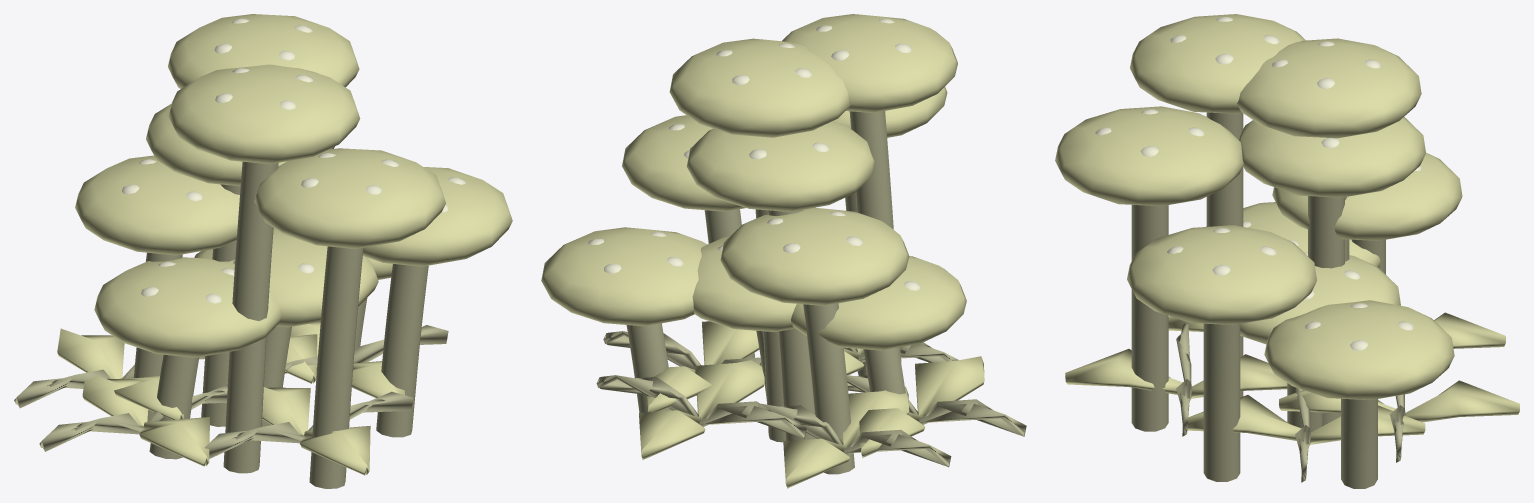
The model's file is bio_spore_fungus_20_far.glb.
3 renders of one model, left to right at view 1: azimuth 30°, elevation 25°; view 2: azimuth 150°, elevation 25°; view 3: azimuth 270°, elevation 25°, orthographic.
Parts seen in each view (by area): view 1: Thick umbrella cap.007, Thick umbrella cap.002, Thick umbrella cap.004, Thick umbrella cap.001, Curved stipe.007, Thick umbrella cap.003, Curved stipe.002, Thick umbrella cap.005, Curved stipe.005, Thick umbrella cap, Low buttress leaf.017, Low buttress leaf.009 (+12 smaller); view 2: Thick umbrella cap.001, Thick umbrella cap.003, Thick umbrella cap.008, Thick umbrella cap.006, Thick umbrella cap.007, Thick umbrella cap.004, Thick umbrella cap.005, Low buttress leaf.013, Thick umbrella cap, Low buttress leaf.017, Curved stipe.001, Low buttress leaf.005 (+13 smaller); view 3: Thick umbrella cap.005, Thick umbrella cap.002, Thick umbrella cap.008, Thick umbrella cap.003, Thick umbrella cap.007, Thick umbrella cap.006, Thick umbrella cap.001, Curved stipe.002, Curved stipe.005, Thick umbrella cap, Low buttress leaf.013, Low buttress leaf.009 (+10 smaller).
Boxes of the visible parts, x1,y1,x2,y2 form: Thick umbrella cap.007: (168,64,360,164); Thick umbrella cap.002: (254,148,445,248); Thick umbrella cap.004: (94,257,281,357); Thick umbrella cap.001: (75,155,239,255); Curved stipe.007: (223,161,278,473); Thick umbrella cap.003: (168,14,359,88); Curved stipe.002: (309,246,363,488); Thick umbrella cap.005: (362,167,512,266); Curved stipe.005: (376,264,428,437); Thick umbrella cap: (194,228,378,327); Low buttress leaf.017: (82,372,209,466); Low buttress leaf.009: (262,387,370,475); Thick umbrella cap.001: (720,207,909,305); Thick umbrella cap.003: (669,38,850,137); Thick umbrella cap.008: (541,227,706,326); Thick umbrella cap.006: (686,121,875,211); Thick umbrella cap.007: (782,14,957,112); Thick umbrella cap.004: (791,256,966,350); Thick umbrella cap.005: (622,115,745,211); Low buttress leaf.013: (639,360,764,460); Thick umbrella cap: (692,236,796,332); Low buttress leaf.017: (859,356,984,458); Curved stipe.001: (803,303,854,474); Low buttress leaf.005: (783,386,909,488); Thick umbrella cap.005: (1127,225,1316,324); Thick umbrella cap.002: (1055,106,1243,206); Thick umbrella cap.008: (1264,300,1454,400); Thick umbrella cap.003: (1237,38,1421,138); Thick umbrella cap.007: (1130,14,1305,113); Thick umbrella cap.006: (1238,117,1425,197); Thick umbrella cap.001: (1272,152,1462,240); Curved stipe.002: (1131,205,1168,431); Curved stipe.005: (1203,323,1240,481); Thick umbrella cap: (1240,255,1400,344); Low buttress leaf.013: (1279,380,1519,422); Low buttress leaf.009: (1065,349,1287,399).
Bounding box in the file's own units: 2.34 × 1.92 × 2.14.
